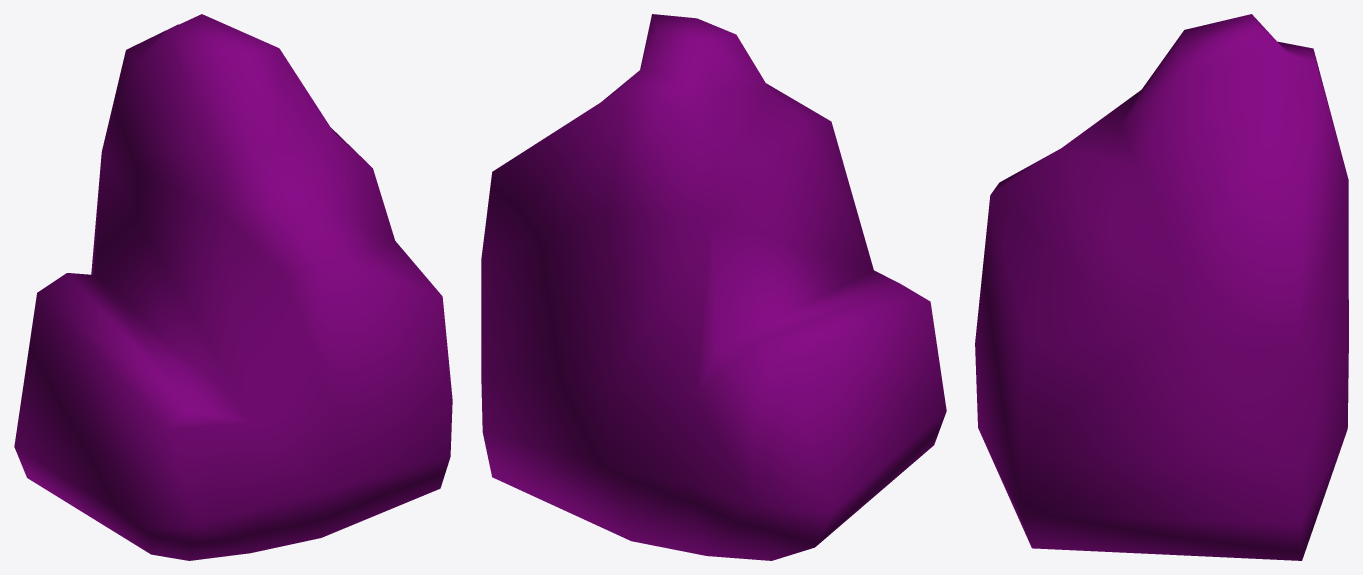
File: Rock07.fbx
3 renders of one model, left to right at view 1: azimuth 30°, elevation 25°; view 2: azimuth 150°, elevation 25°; view 3: azimuth 270°, elevation 25°, orthographic. The views are drawn at different scales.
Visible parts, largest first — view 1: Low_Rock07; view 2: Low_Rock07; view 3: Low_Rock07.
Part boxes in pixels (<box>): Low_Rock07: <box>14,14,452,560</box>; Low_Rock07: <box>481,14,946,560</box>; Low_Rock07: <box>975,14,1348,560</box>.
Size of the model in its own units: 407 by 553 by 387.
